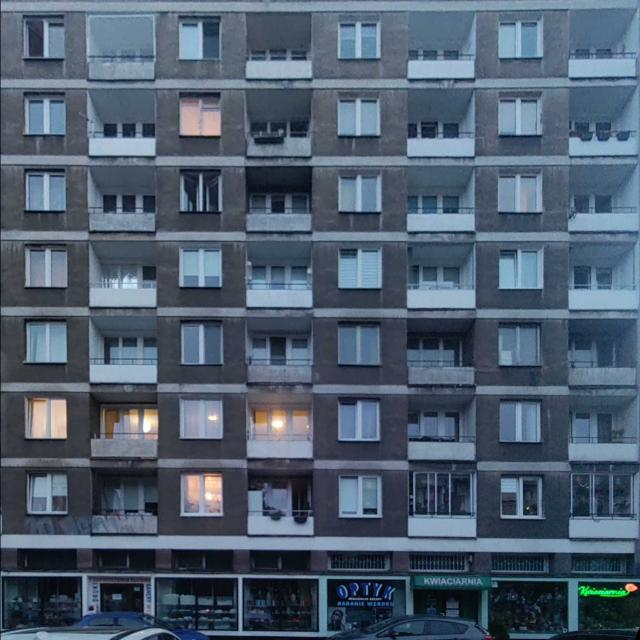balcony: (407, 48, 475, 80), (568, 47, 637, 78), (407, 283, 476, 309), (88, 132, 156, 158), (88, 208, 156, 234), (89, 283, 157, 309), (569, 515, 639, 540), (87, 55, 156, 80), (245, 55, 314, 80), (245, 207, 314, 232), (570, 130, 638, 155), (246, 283, 314, 308), (568, 208, 638, 232), (246, 132, 311, 157), (568, 365, 636, 388), (570, 440, 638, 463), (408, 132, 473, 156), (248, 511, 315, 534), (91, 511, 157, 534), (409, 513, 475, 536), (571, 288, 639, 310), (408, 365, 475, 386), (407, 212, 475, 232), (407, 443, 476, 461), (247, 367, 313, 385), (91, 439, 157, 457), (247, 440, 313, 458), (91, 365, 156, 383)
door: (100, 582, 143, 634)
window: (155, 576, 238, 632), (2, 574, 83, 629), (489, 580, 568, 636), (489, 579, 568, 633), (242, 577, 319, 631), (328, 579, 404, 633), (411, 579, 482, 633), (90, 316, 158, 365), (88, 89, 156, 138), (407, 394, 477, 441), (246, 166, 312, 215), (245, 317, 312, 365), (570, 394, 637, 441), (570, 471, 635, 519), (569, 319, 635, 366), (577, 581, 639, 631), (407, 319, 473, 365), (91, 244, 157, 288), (89, 166, 155, 210), (246, 241, 315, 283), (411, 471, 473, 517), (85, 14, 156, 54), (244, 14, 315, 54), (568, 9, 639, 49), (569, 166, 640, 206), (405, 166, 476, 206), (568, 244, 639, 284), (406, 244, 477, 284), (408, 11, 478, 51), (568, 88, 638, 128), (90, 397, 158, 438), (250, 475, 312, 519), (93, 472, 155, 515), (245, 89, 310, 130), (409, 90, 473, 131), (498, 397, 543, 443), (252, 406, 311, 441), (337, 321, 382, 366), (24, 318, 68, 364), (178, 91, 222, 137), (497, 170, 543, 214), (337, 397, 381, 442), (500, 475, 544, 520), (498, 247, 544, 290), (179, 396, 223, 440), (498, 322, 542, 366), (23, 244, 67, 288), (338, 474, 382, 518), (180, 320, 223, 365), (180, 472, 223, 517), (179, 169, 221, 213), (338, 247, 382, 289), (25, 396, 67, 440), (26, 471, 68, 515), (338, 15, 380, 59), (500, 14, 542, 58), (499, 90, 541, 134), (179, 247, 222, 289), (25, 169, 67, 212), (24, 90, 66, 133), (23, 15, 65, 58), (177, 17, 219, 60), (337, 92, 379, 135), (338, 173, 382, 213)
